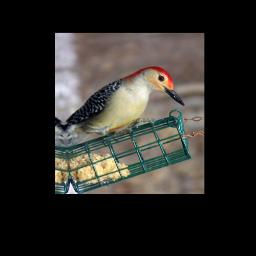Woodpecker: (59, 64, 188, 146)
